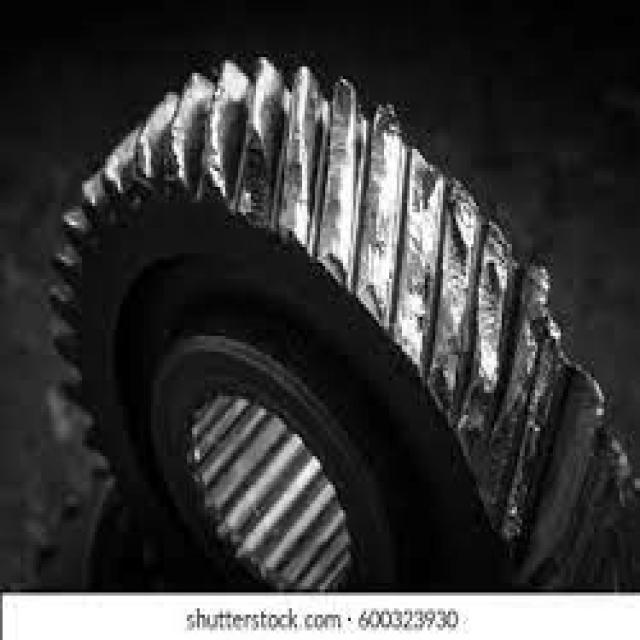Fault-Exist: (103, 49, 566, 557)
